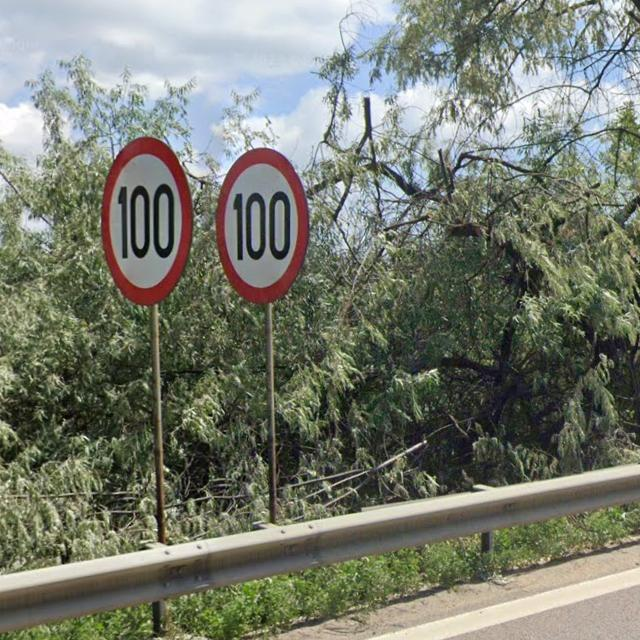forb_speed_over_100: (101, 137, 192, 306), (215, 148, 309, 304)
